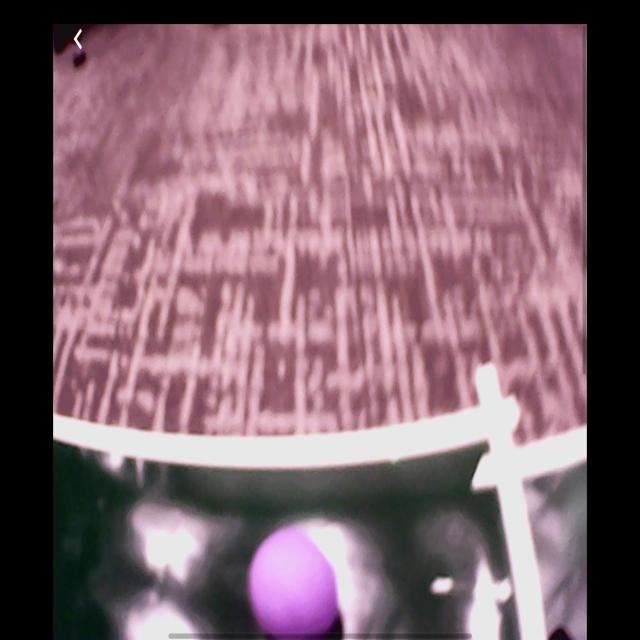ball: (248, 527, 336, 638)
